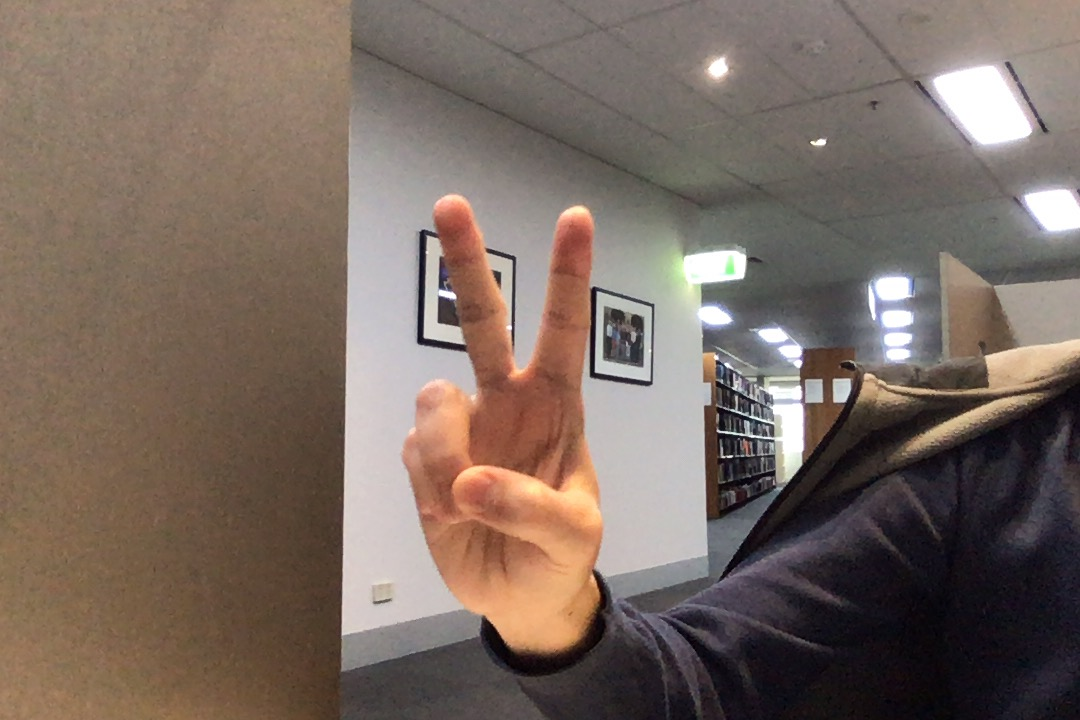peacesign: (385, 185, 627, 634)
